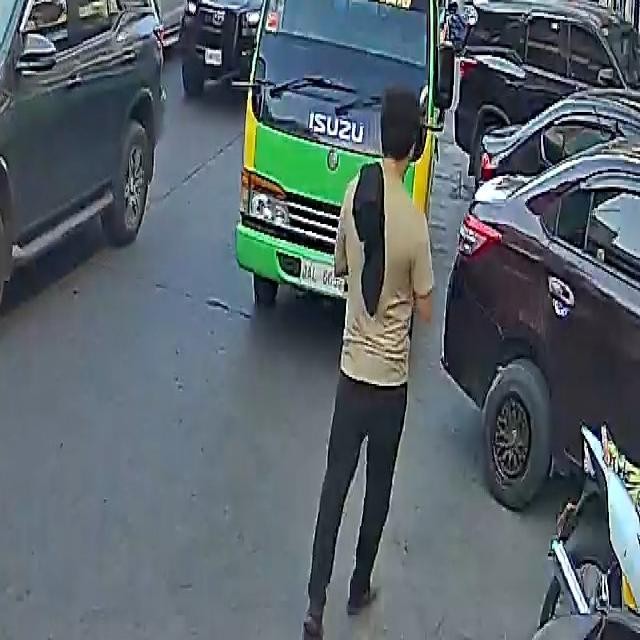car: (442, 64, 640, 528), (0, 0, 180, 356), (460, 0, 640, 178), (181, 0, 347, 94), (101, 0, 195, 36)
